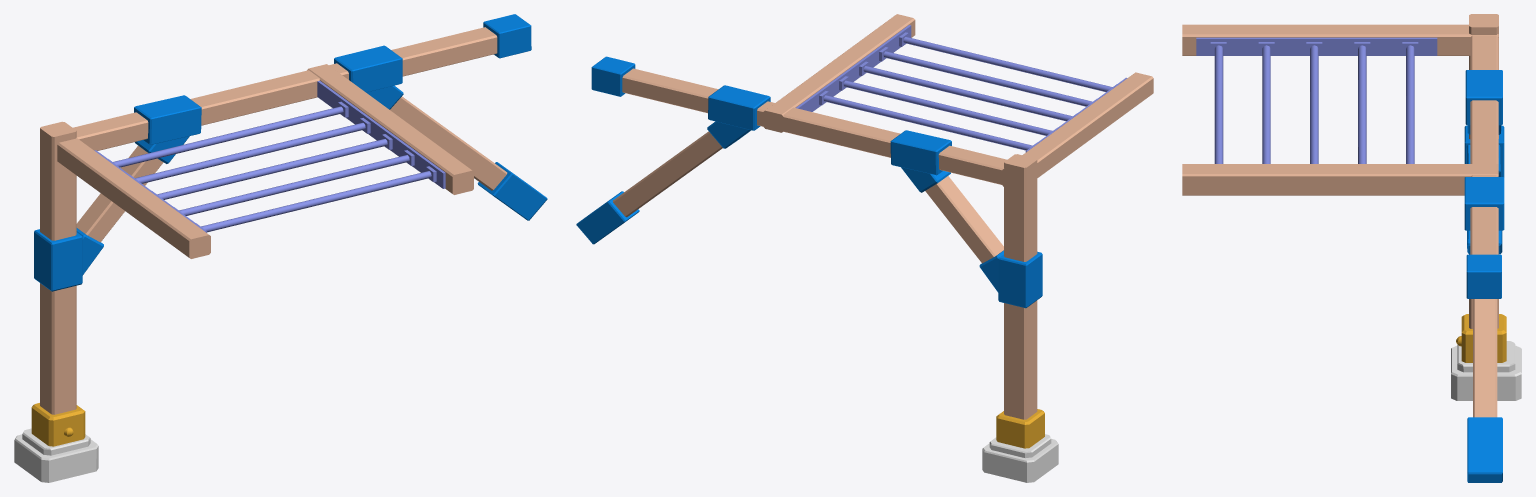
Rendered from Re_Boss2_Platform_Right.fbx.
3 views of the same model, side by side, from view 1: azimuth 30°, elevation 25°; view 2: azimuth 150°, elevation 25°; view 3: azimuth 270°, elevation 25° (orthographic). The views are drawn at different scales.
Visible parts, largest first — view 1: ReRope.004; view 2: ReRope.004; view 3: ReRope.004.
Boxes of the visible parts, left/top/right/bottom form: ReRope.004: left=14, top=14, right=547, bottom=482; ReRope.004: left=576, top=14, right=1153, bottom=482; ReRope.004: left=1182, top=14, right=1521, bottom=482.
Size of the model in its own units: 902 by 567 by 477.
